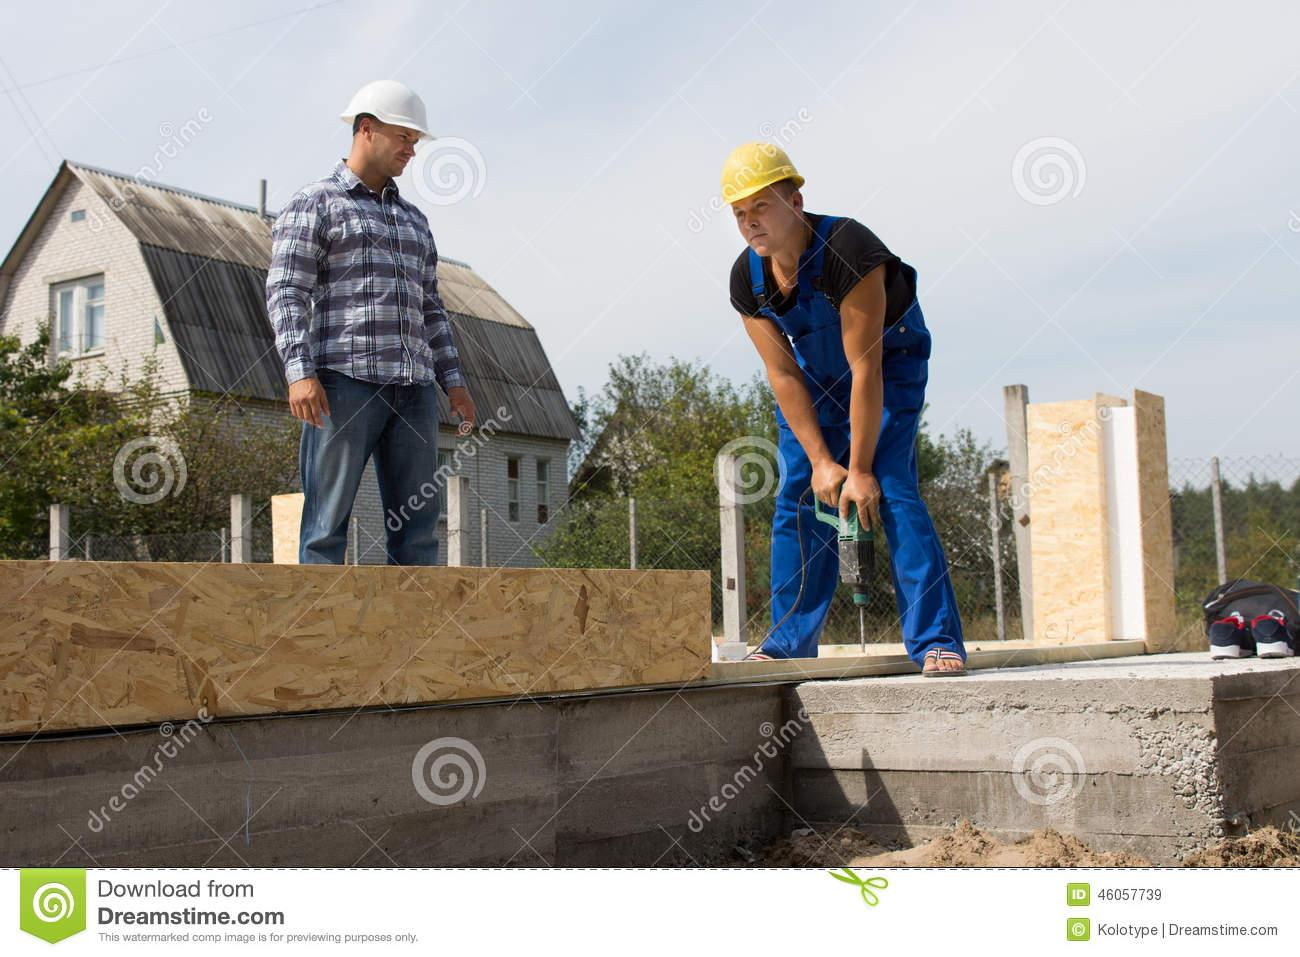helmet: (718, 136, 808, 208), (341, 78, 436, 138)
